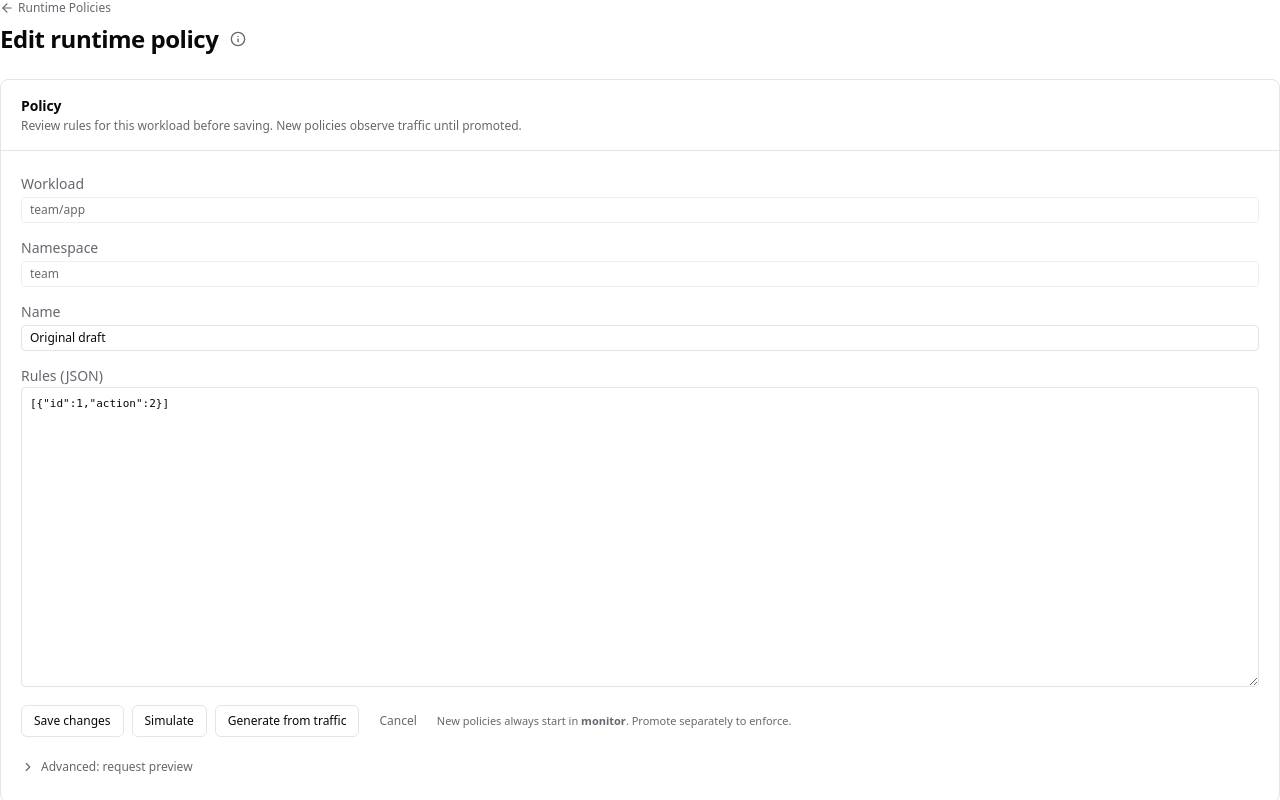
Test: holds a stale CAS failure until current policy is explicitly fetched and reviewed
This screenshot has width=1280, height=800.
Expected: the button with test id "runtime-policies-editor-save" is enabled, x1=21 y1=705 x2=124 y2=737
Step 1. Submit the form
(page scrolled)
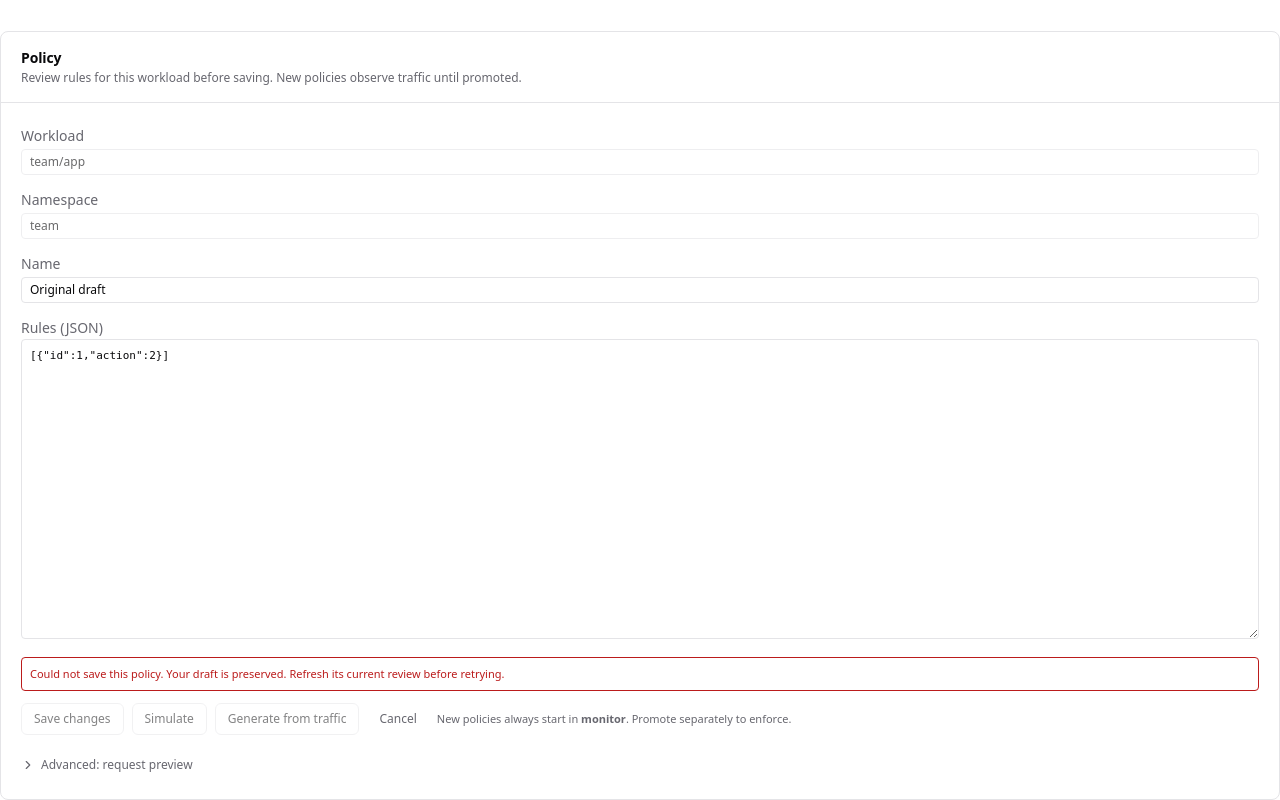
Result: the button with test id "runtime-policies-editor-save" is disabled at x1=21 y1=703 x2=124 y2=735
Step 2. Submit the form
(page scrolled)
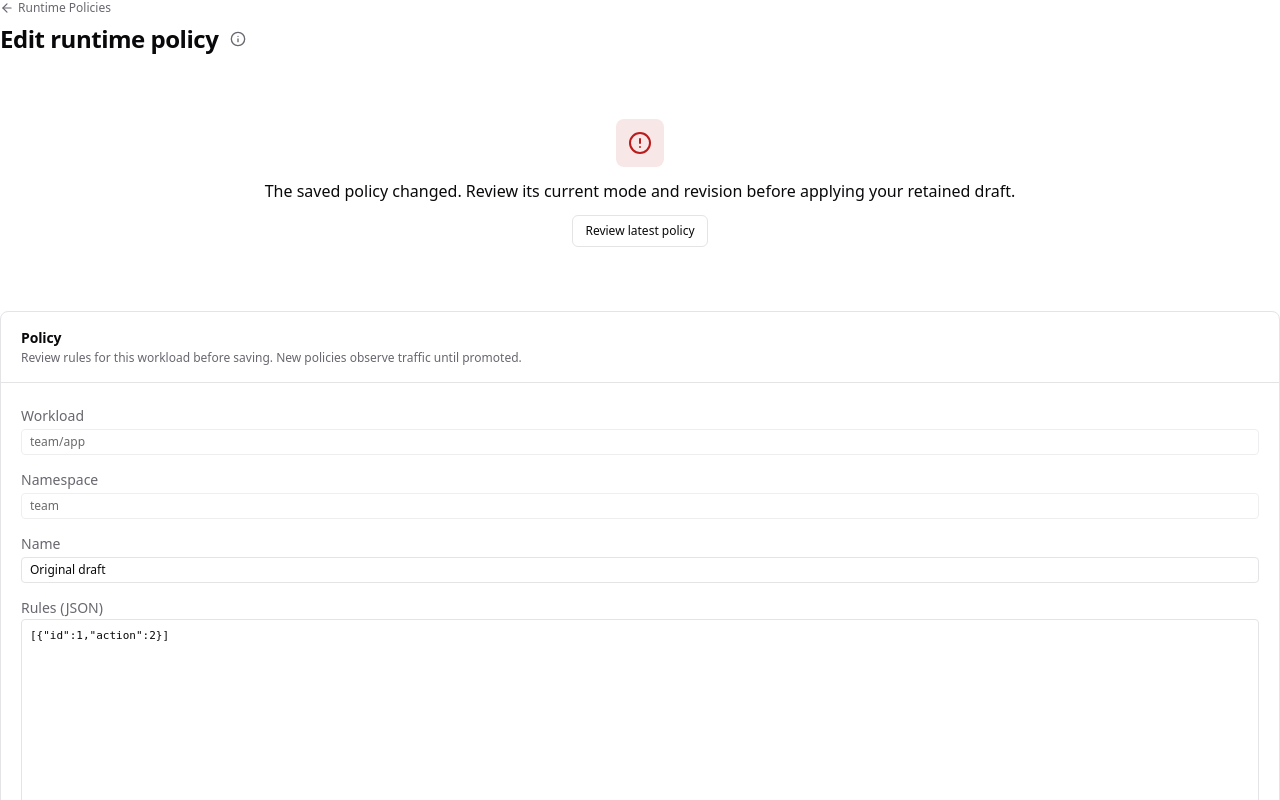
Step 3. Click the button "Review latest policy" → x=640, y=231, box x1=572 y1=215 x2=708 y2=247
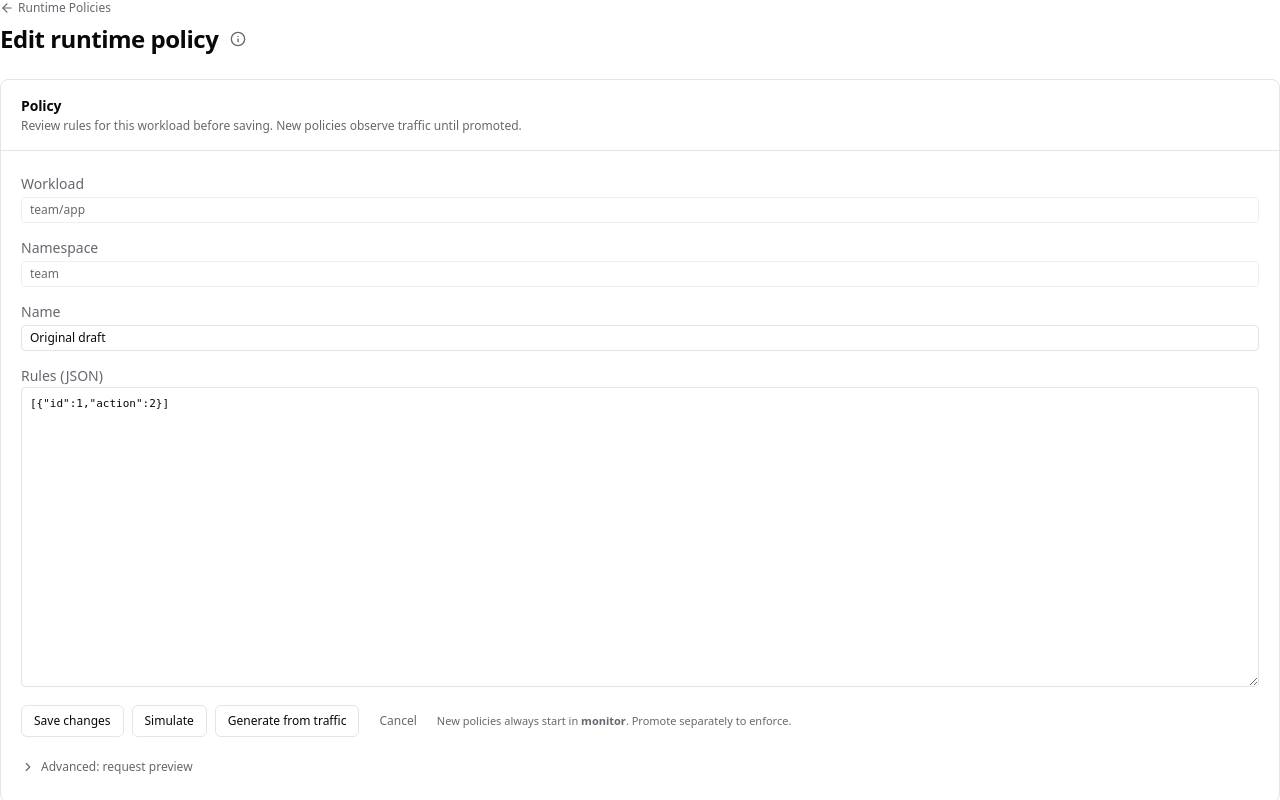
Expected: the text box labelled "Rules (JSON)" holds "[{\"id\":1,\"action\":2}]", x1=21 y1=387 x2=1259 y2=687
Result: the button "Save changes" is enabled at x1=21 y1=705 x2=124 y2=737
